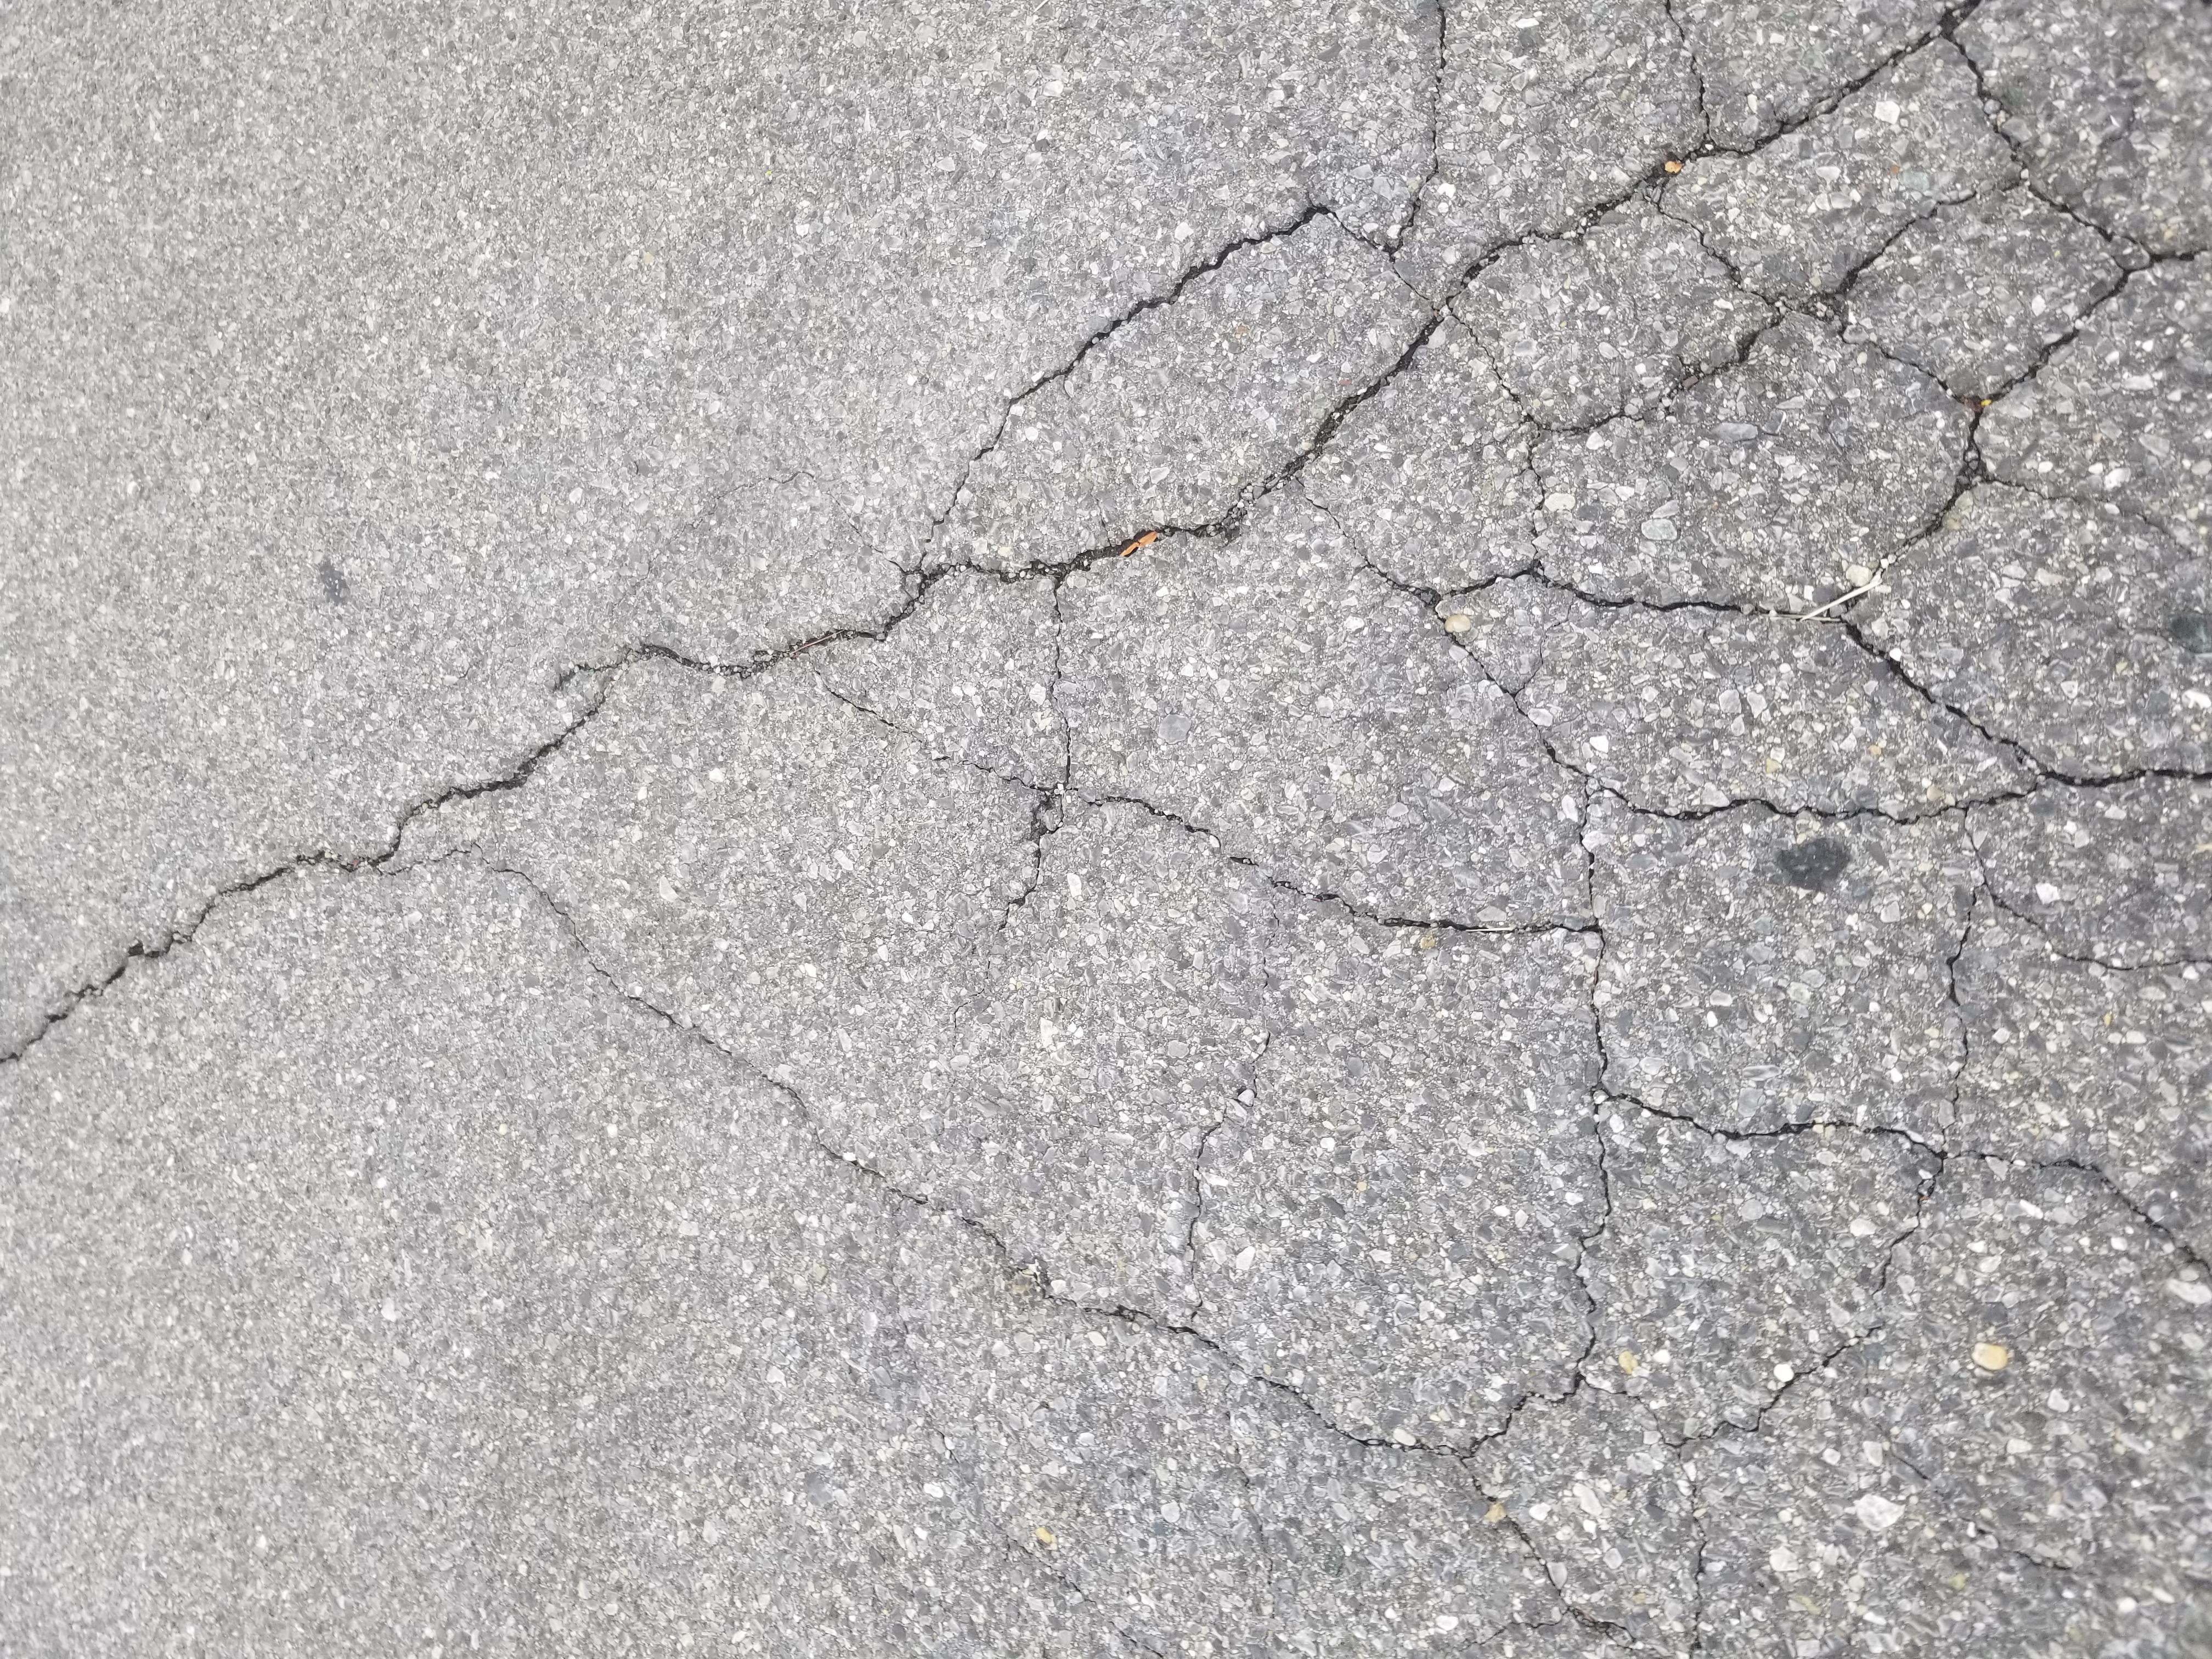alligator-crack: (1144, 732, 2212, 1656)
crack: (472, 620, 1268, 1657), (219, 356, 1040, 1230), (752, 0, 1479, 713)
